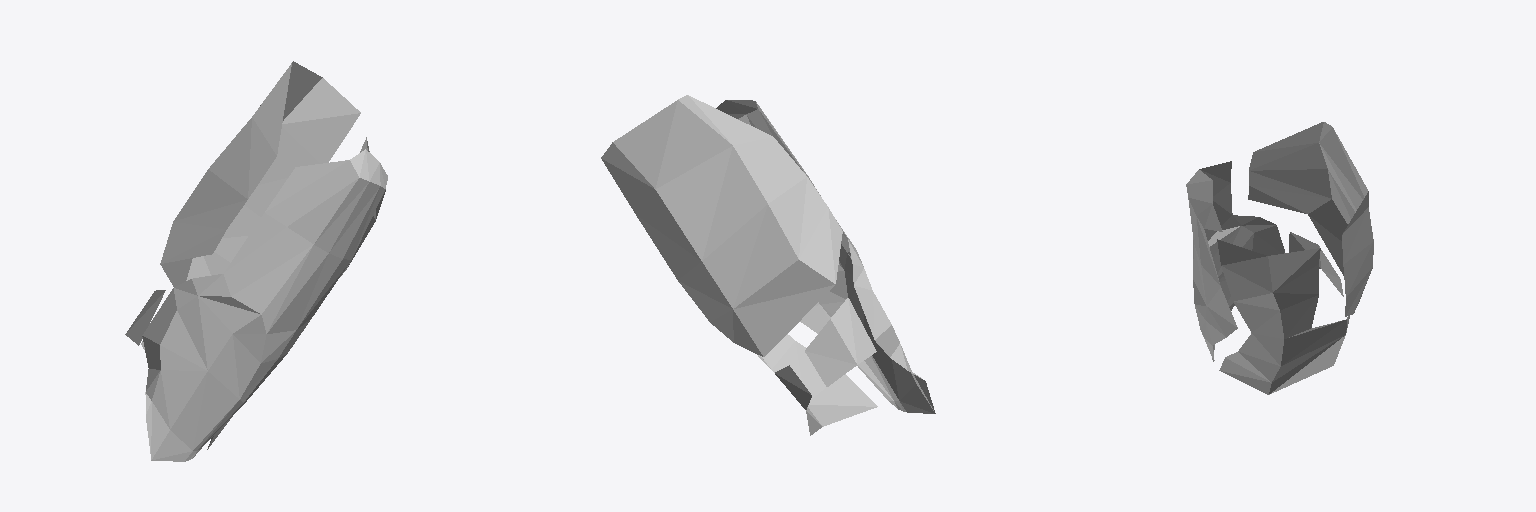
The model's file is Biceps_polish.obj.
3 renders of one model, left to right at view 1: azimuth 30°, elevation 25°; view 2: azimuth 150°, elevation 25°; view 3: azimuth 270°, elevation 25°, orthographic.
Size of the model in its own units: 10.54 by 12.06 by 6.28.